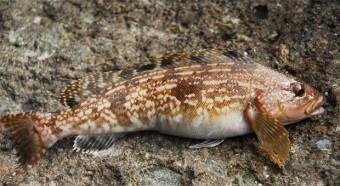fish: (0, 49, 323, 164)
